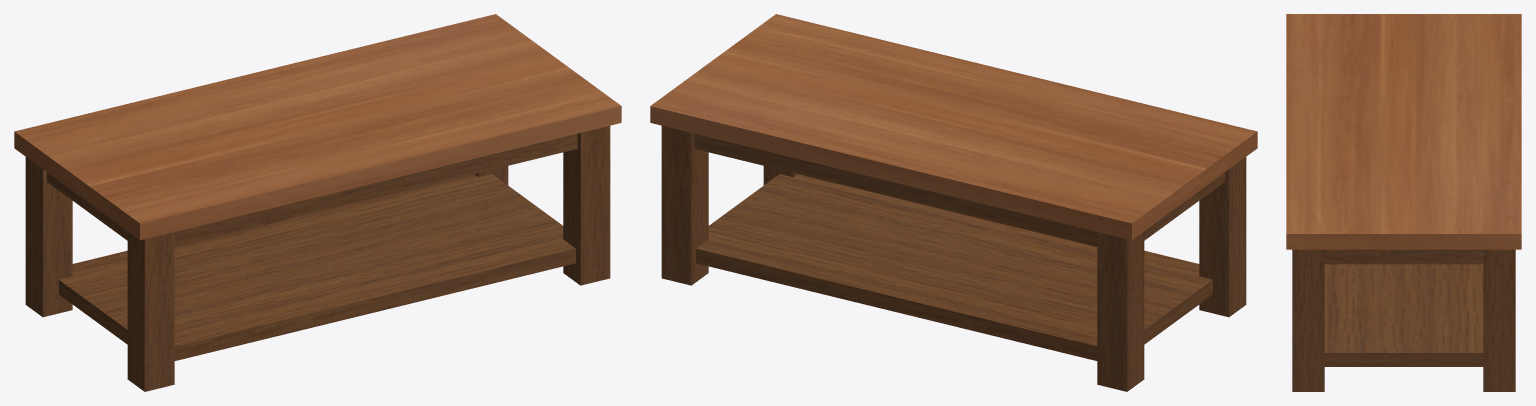
File: Table_5A.fbx
3 renders of one model, left to right at view 1: azimuth 30°, elevation 25°; view 2: azimuth 150°, elevation 25°; view 3: azimuth 270°, elevation 25°, orthographic. The views are drawn at different scales.
Visible parts, largest first — view 1: polySurface1516; view 2: polySurface1516; view 3: polySurface1516.
Boxes of the visible parts, box(x1,y1,x2,y2) form: polySurface1516: box(14, 14, 621, 391); polySurface1516: box(650, 14, 1257, 391); polySurface1516: box(1286, 14, 1521, 391).
Bounding box in the file's own units: 2.1 × 0.72 × 0.95.
